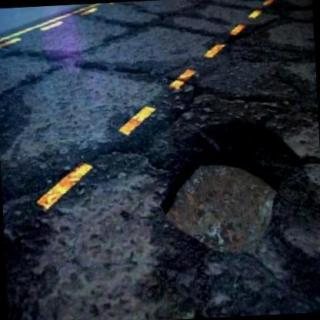pothole: (161, 118, 320, 297)
